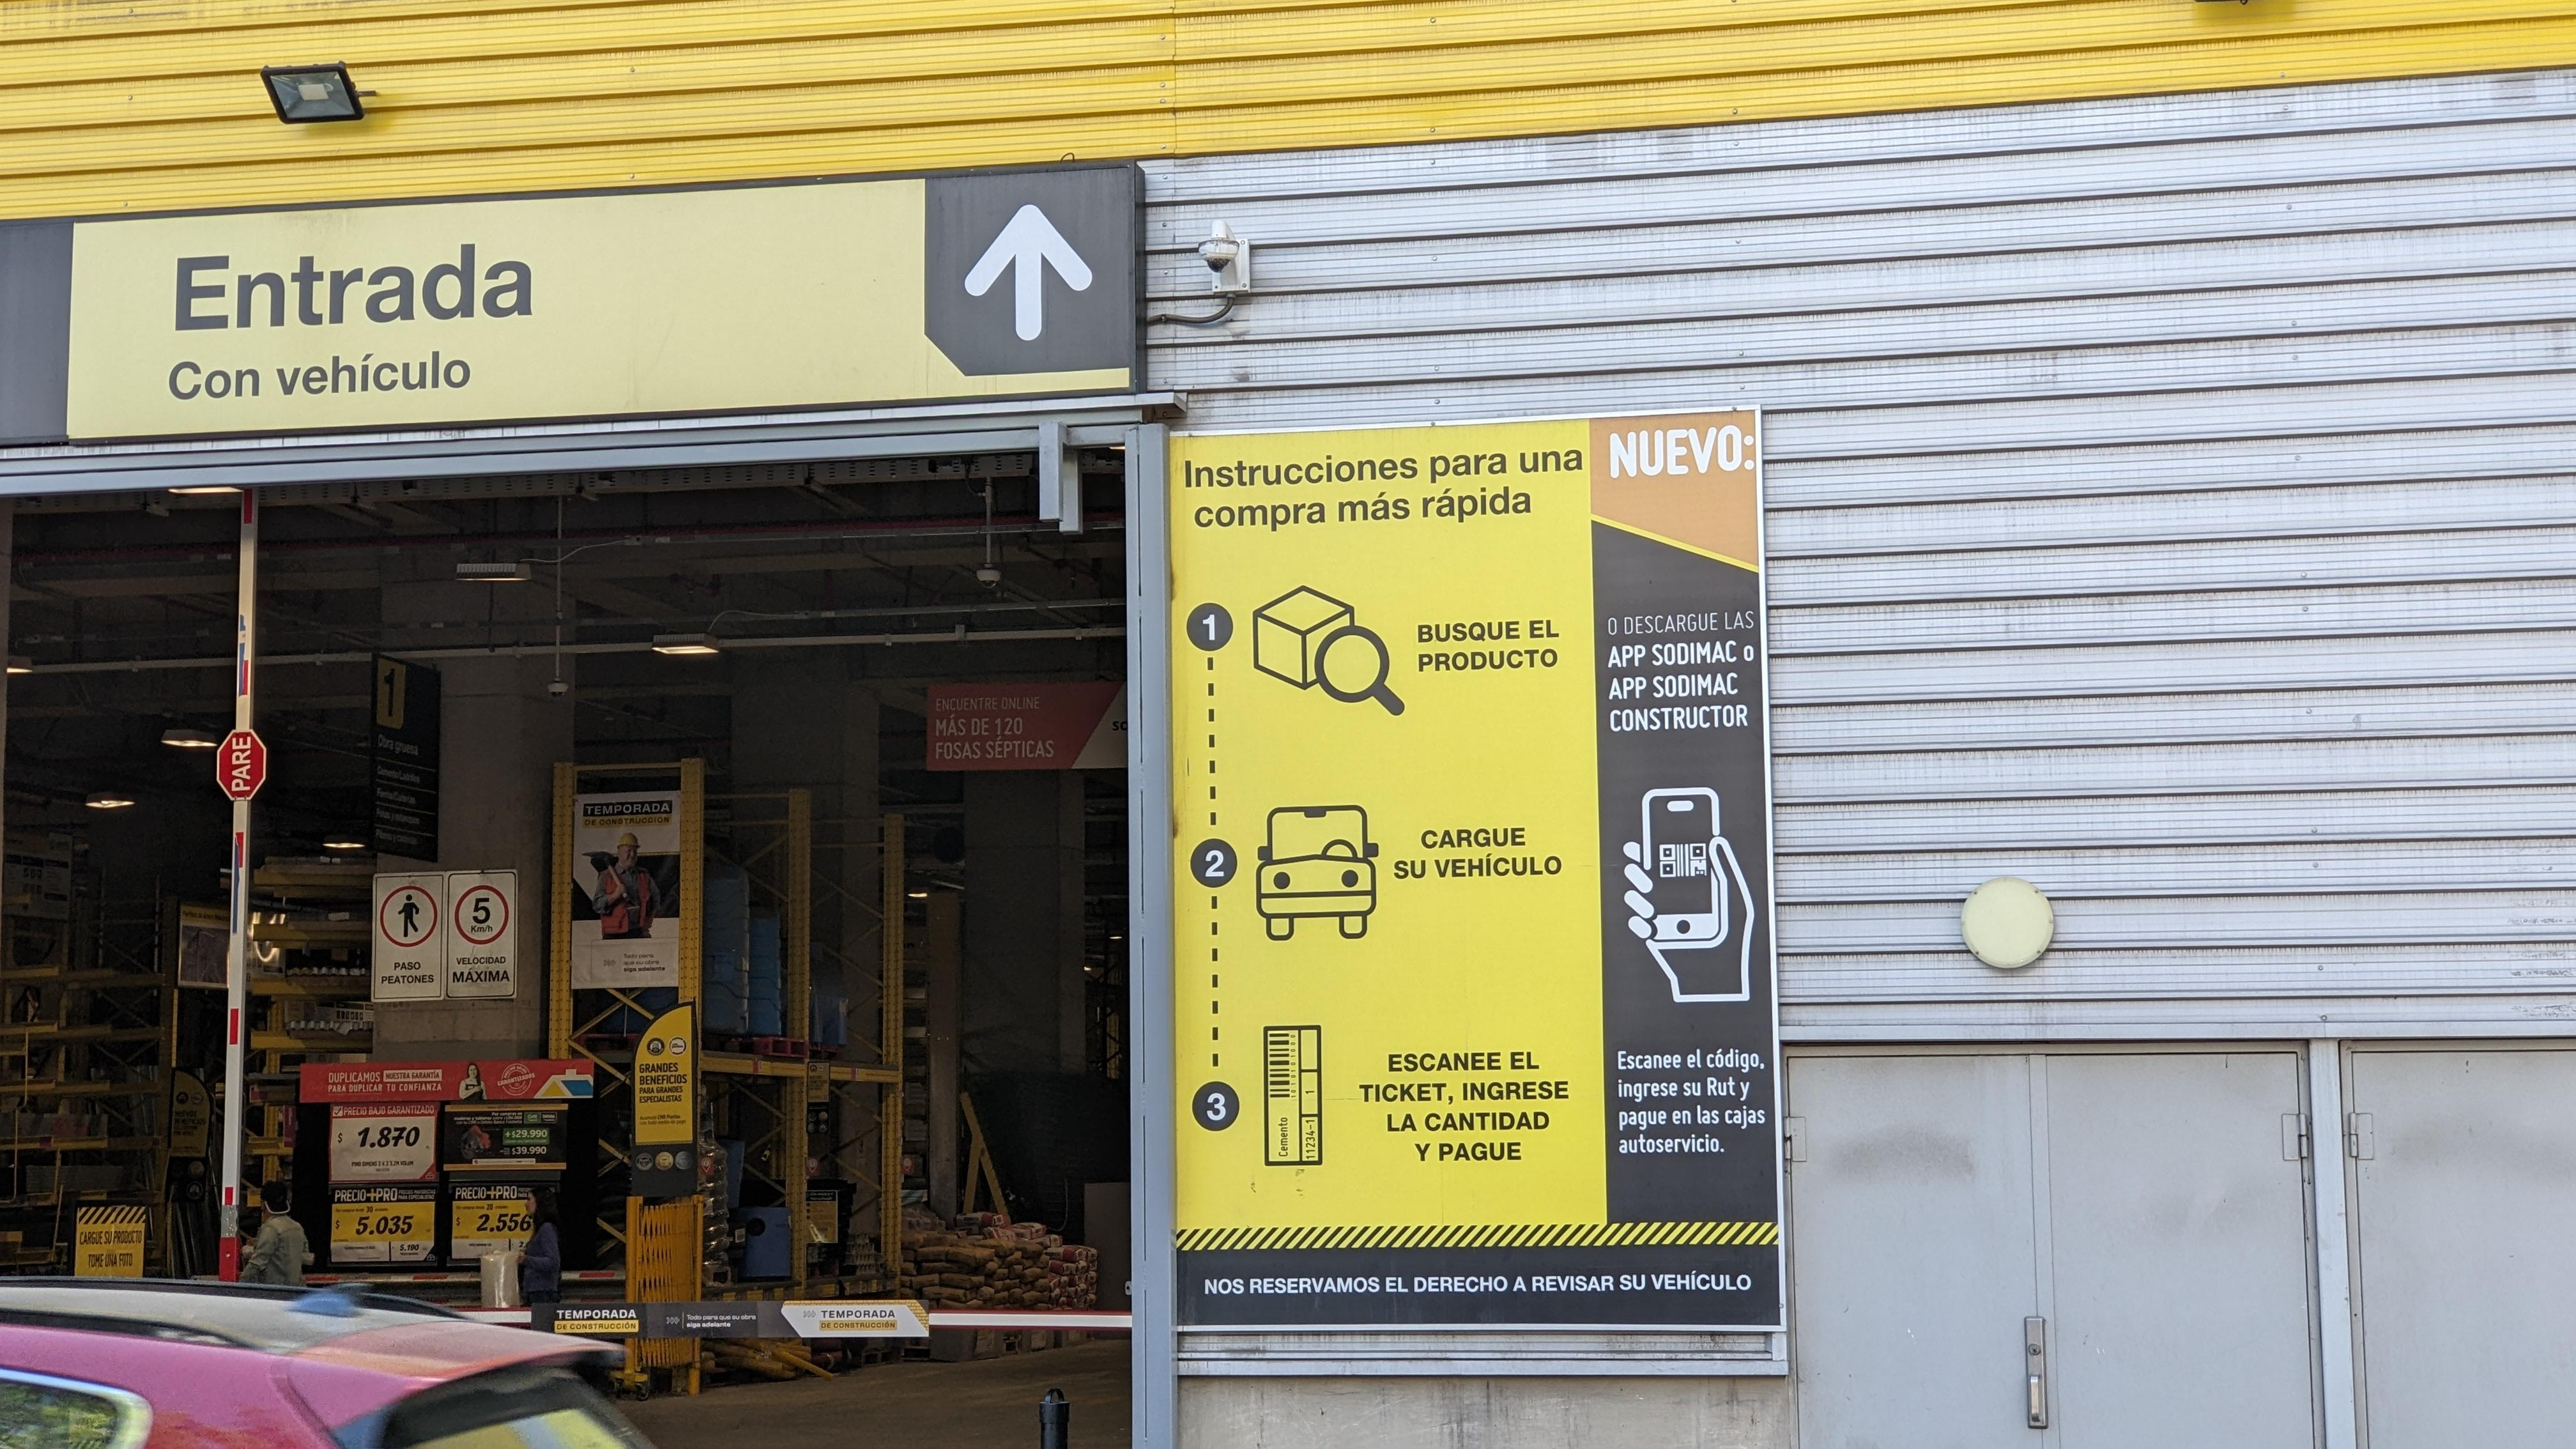up arrow: (961, 200, 1099, 349)
